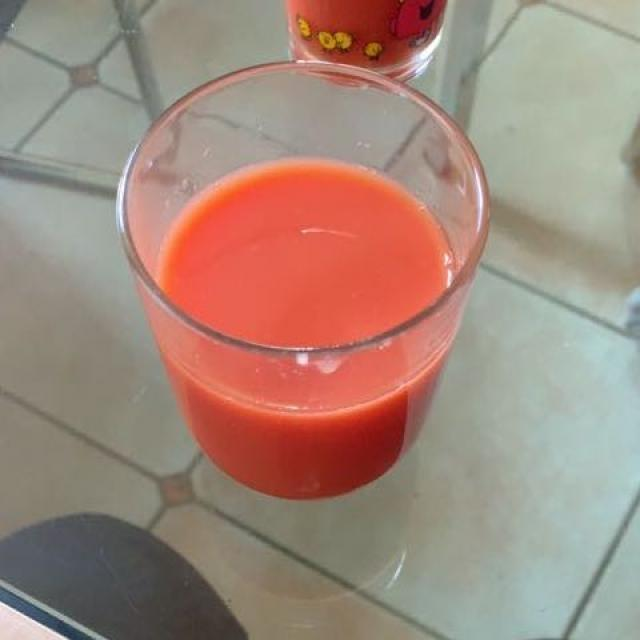juice: (157, 171, 449, 443)
